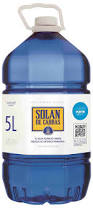solan de cabras: (1, 2, 93, 206)
